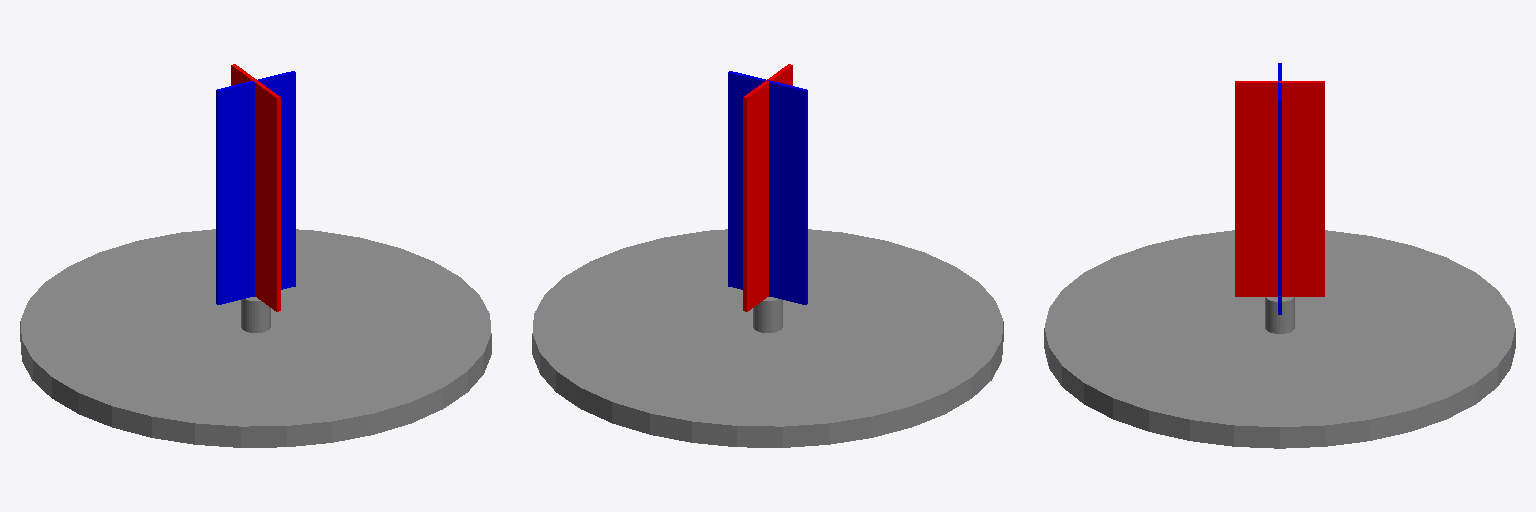
robot.urdf — screwdriver:
<?xml version="1.0"?>
<!-- Ported from dexscrew assets/screw/driver/0000_stripe.urdf.
     Handle mesh XY scaled so circumradius R = 16 mm at object_radius scale 1.0
     (base screw_upper_8.stl R = 12.5 mm, scale 16/12.5 = 1.28).
     The object stands upright on the ground: base disc on the floor, shaft pointing
     up, handle at the top. The hand floats above it (palm down). -->
<robot name="screwdriver">
  <!-- ========== BASE (anchor disc) ========== -->
  <link name="base">
    <visual>
      <origin xyz="0 0 0" />
      <geometry>
        <cylinder radius="0.1" length="0.01" />
      </geometry>
      <material name="base_material">
        <color rgba="0.6 0.6 0.6 1" />
      </material>
    </visual>
    <collision>
      <origin xyz="0 0 0" />
      <geometry>
        <cylinder radius="0.1" length="0.01" />
      </geometry>
    </collision>
    <inertial>
      <mass value="10.0" />
      <origin xyz="0 0 0" />
      <inertia ixx="0.02508" ixy="0.0" ixz="0.0" iyy="0.02508" iyz="0.0" izz="0.05" />
    </inertial>
  </link>

  <!-- ========== HANDLE (rotating, orange) ========== -->
  <link name="handle">
    <visual>
      <origin xyz="0 0 0.01" />
      <geometry>
        <mesh filename="../meshes/screw_upper_8.stl" scale="1.28 1.28 1.0"/>
      </geometry>
      <material name="handle_orange">
        <color rgba="0.8 0.4 0.2 1"/>
      </material>
    </visual>
    <collision>
      <origin xyz="0 0 0.01" />
      <geometry>
        <mesh filename="../meshes/screw_upper_8.stl" scale="1.28 1.28 1.0"/>
      </geometry>
    </collision>
    <inertial>
      <origin xyz="0 0 0.01" />
      <mass value="0.05595962"/>
      <inertia ixx="0.0000442722195" ixy="0" ixz="0"
               iyy="0.0000442722195" iyz="0"
               izz="0.00000437184525"/>
    </inertial>
    <!-- Red stripe on handle -->
    <visual>
      <origin xyz="0 0 0.06" rpy="0 0 0"/>
      <geometry>
        <box size="0.002 0.0384 0.1"/>
      </geometry>
      <material name="stripe_red">
        <color rgba="1 0 0 1"/>
      </material>
    </visual>
    <!-- Blue stripe on handle -->
    <visual>
      <origin xyz="0 0 0.06" rpy="0 0 1.5708"/>
      <geometry>
        <box size="0.002 0.0384 0.1"/>
      </geometry>
      <material name="stripe_blue">
        <color rgba="0 0 1 1"/>
      </material>
    </visual>
  </link>

  <!-- ========== SHAFT (gray) ========== -->
  <link name="shaft">
    <visual>
      <origin xyz="0 0 0.01" />
      <geometry>
        <cylinder radius="0.00625" length="0.02" />
      </geometry>
      <material name="shaft_gray">
        <color rgba="0.6 0.6 0.6 1"/>
      </material>
    </visual>
    <collision>
      <origin xyz="0 0 0.01" />
      <geometry>
        <cylinder radius="0.00625" length="0.02" />
      </geometry>
    </collision>
    <inertial>
      <origin xyz="0 0 0.01" />
      <mass value="0.01233075"/>
      <inertia ixx="0.00000659566742" ixy="0" ixz="0"
               iyy="0.00000659566742" iyz="0"
               izz="0.0000000385335974"/>
    </inertial>
  </link>

  <!-- Base-shaft connection (fixed) -->
  <joint name="base_to_shaft" type="fixed">
    <parent link="base" />
    <child  link="shaft" />
    <origin xyz="0 0 0" rpy="0 0 0" />
  </joint>

  <!-- Handle-shaft connection (revolute joint for training) -->
  <joint name="handle_to_shaft" type="revolute">
    <parent link="shaft"/>
    <child  link="handle"/>
    <origin xyz="0 0 0.01" rpy="0 0 0"/>
    <axis  xyz="0 0 -1" />
    <dynamics friction="0.2"/>
    <limit lower="0.0" upper="628.3185" effort="2.0" velocity="6.2832" /> <!-- 100 rotations -->
  </joint>
</robot>

--- Facts derived from the render (not from the file) ---
Views: 3 orthographic renders of the robot side by side, from view 1: azimuth 30°, elevation 25°; view 2: azimuth 150°, elevation 25°; view 3: azimuth 270°, elevation 25°.
Model screwdriver with 3 links and 2 joints (1 revolute, 1 fixed), rooted at base, posed all joints at 0.
Links seen in each view (by area): view 1: base, handle, shaft; view 2: base, handle, shaft; view 3: base, handle, shaft.
Boxes of the visible links, <box> form: base: <box>20,229,491,447</box>; handle: <box>216,64,295,311</box>; shaft: <box>241,297,270,332</box>; base: <box>532,229,1003,447</box>; handle: <box>728,64,807,311</box>; shaft: <box>753,297,782,332</box>; base: <box>1044,230,1515,448</box>; handle: <box>1235,63,1324,314</box>; shaft: <box>1265,297,1294,333</box>.
Bounding box of the posed robot: 0.2 × 0.2 × 0.125 m (x, y, z).
Meshes: 1 distinct files referenced, 0 mesh visuals loaded (none loaded); not drawn: 1 (reference not matched to a file when rendering).
